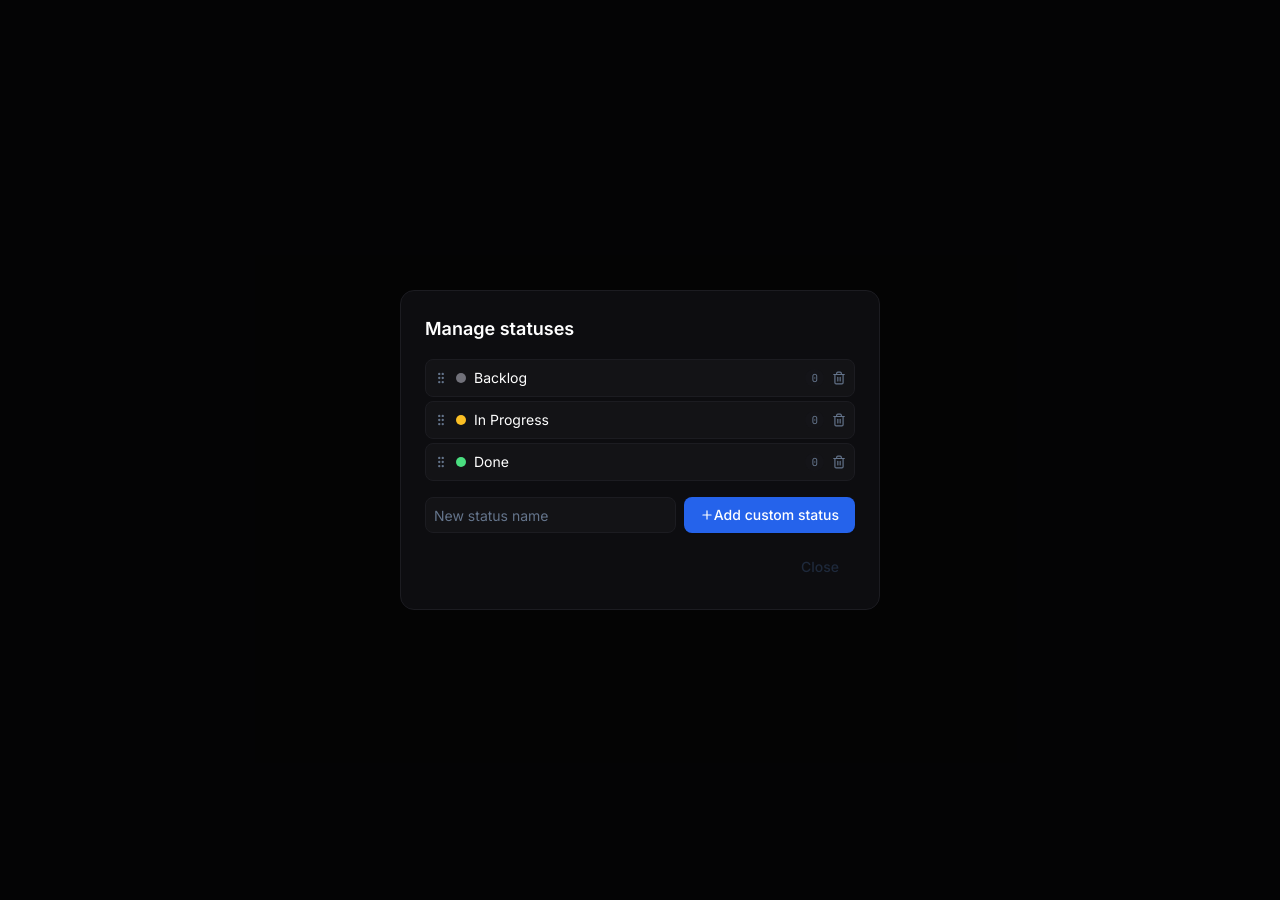
ManageStatusesModal › shows an inline error when the create mutation fails
The image size is (1280, 900).
Type "Blocked" into the field labelled "New status name" at point(550, 515), box [425,497,676,533]
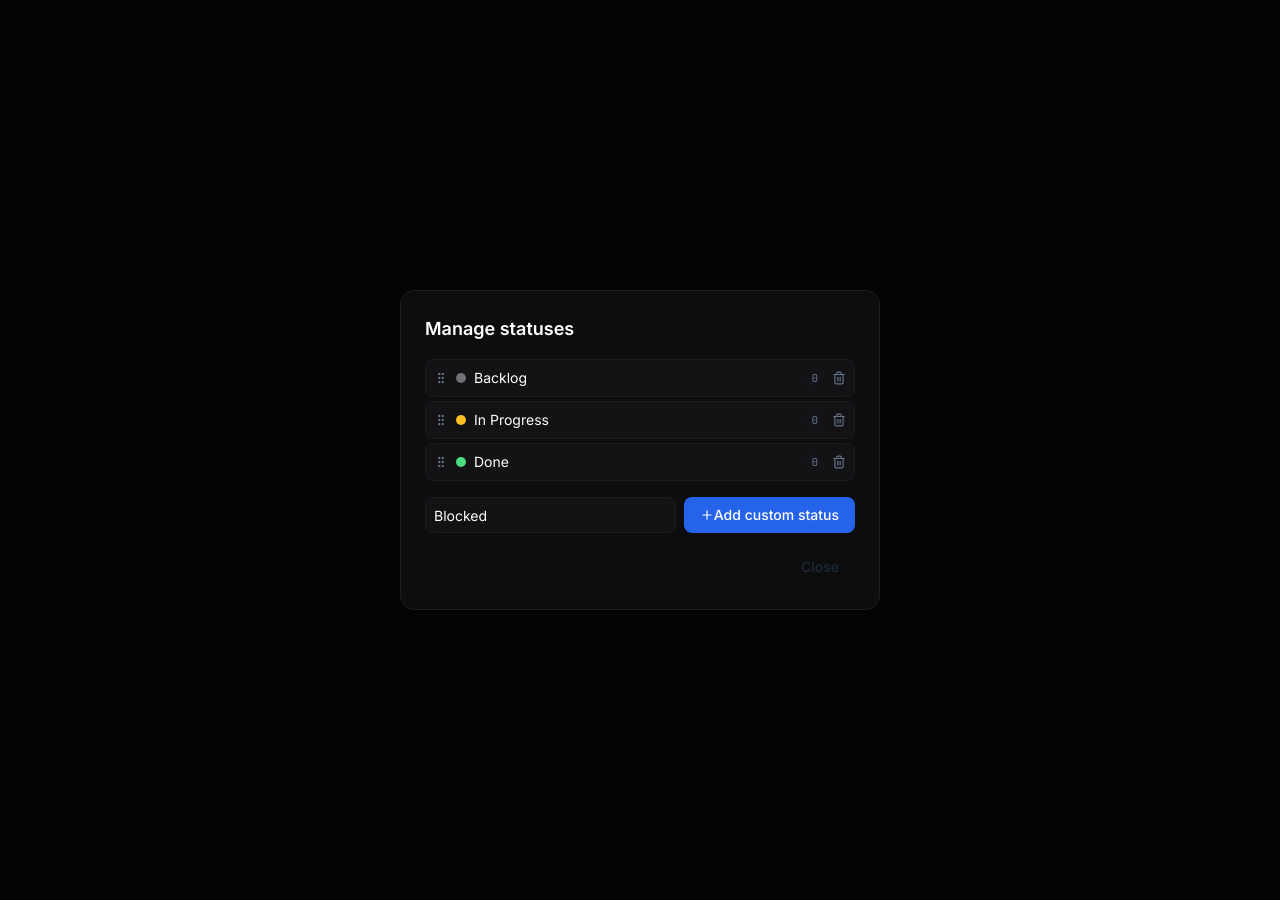
Click the button "Add custom status" at point(769, 515), box [684,497,855,533]
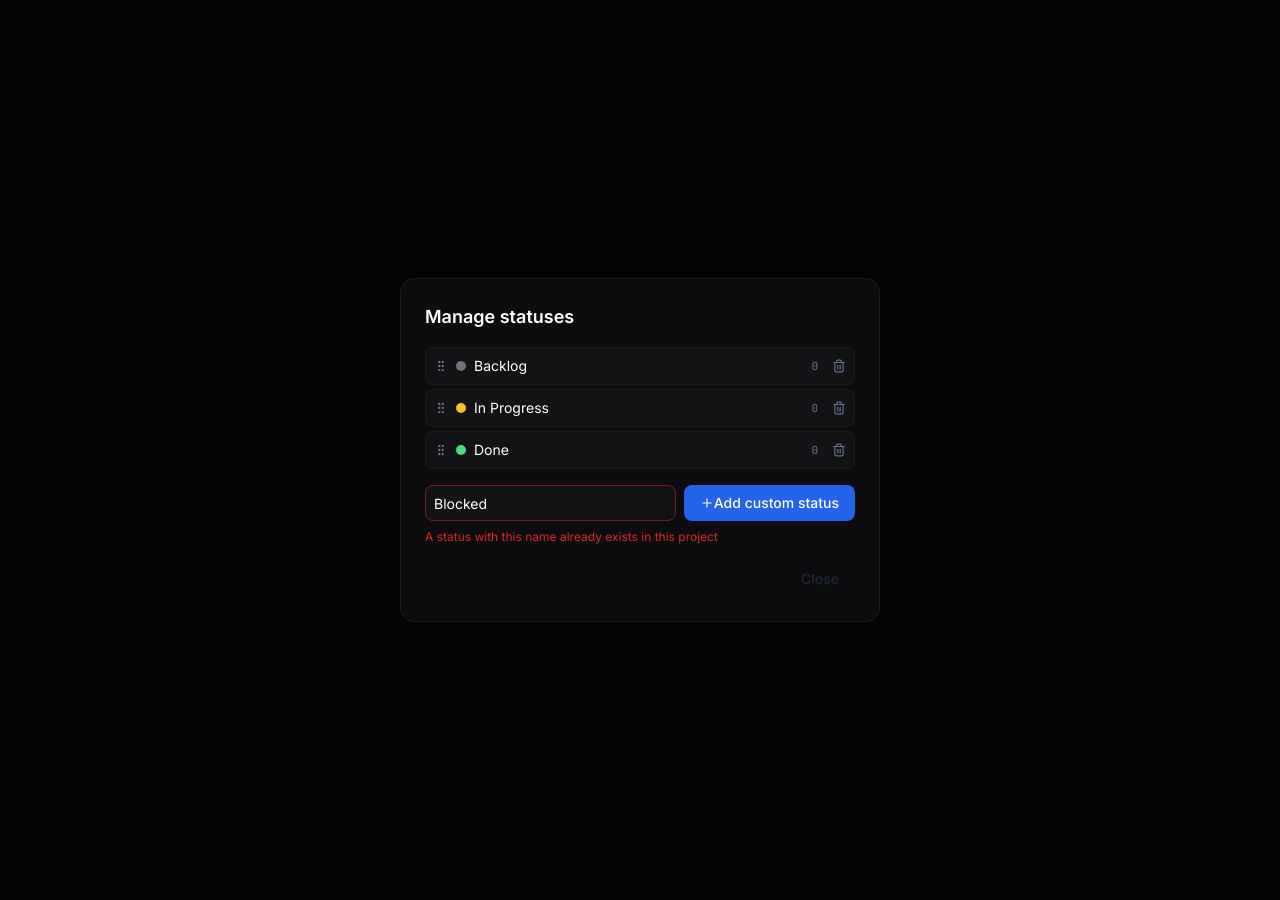
Now the text "A status with this name already exists in this project" is shown, box [425,529,718,544]
